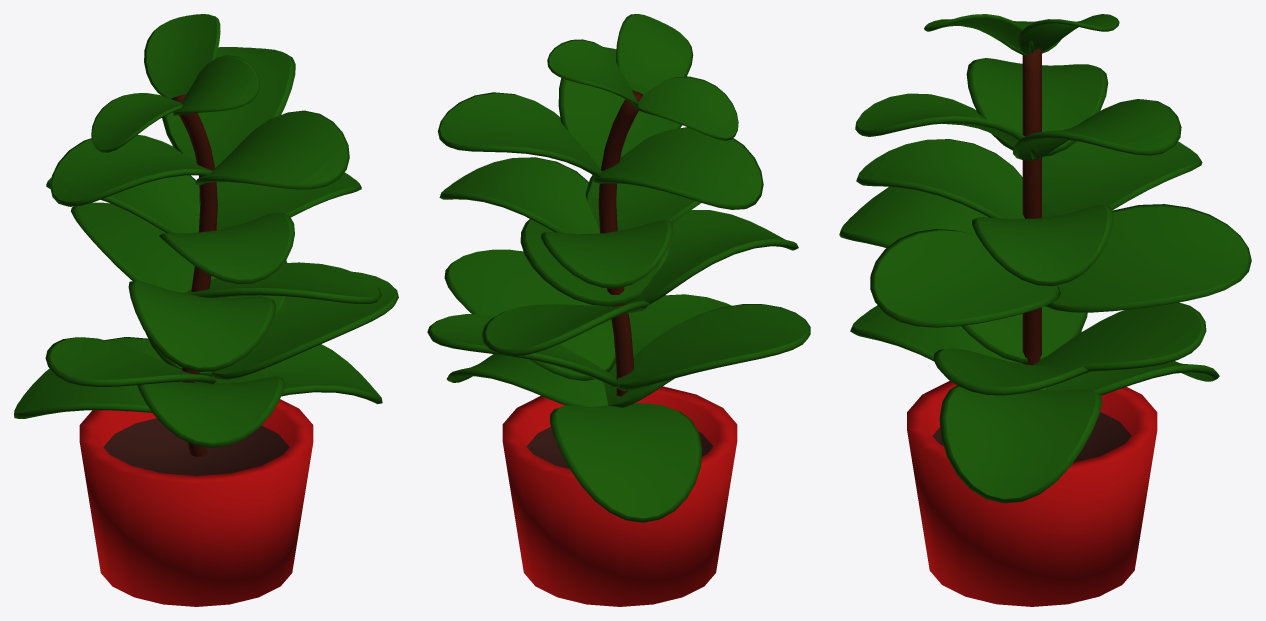
File: HousePlant.FBX
3 renders of one model, left to right at view 1: azimuth 30°, elevation 25°; view 2: azimuth 150°, elevation 25°; view 3: azimuth 270°, elevation 25°, orthographic. The views are drawn at different scales.
Parts seen in each view (by area): view 1: Cylinder001; view 2: Cylinder001; view 3: Cylinder001.
Boxes of the visible parts, bbox=[...] form: Cylinder001: bbox=[14, 14, 398, 606]; Cylinder001: bbox=[427, 14, 810, 606]; Cylinder001: bbox=[839, 14, 1251, 606].
Bounding box in the file's own units: 60.79 × 88.63 × 59.03.
